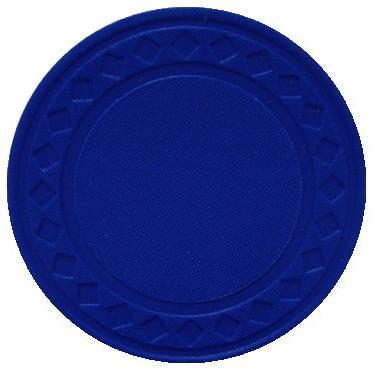chip-blue: (8, 8, 365, 362)
